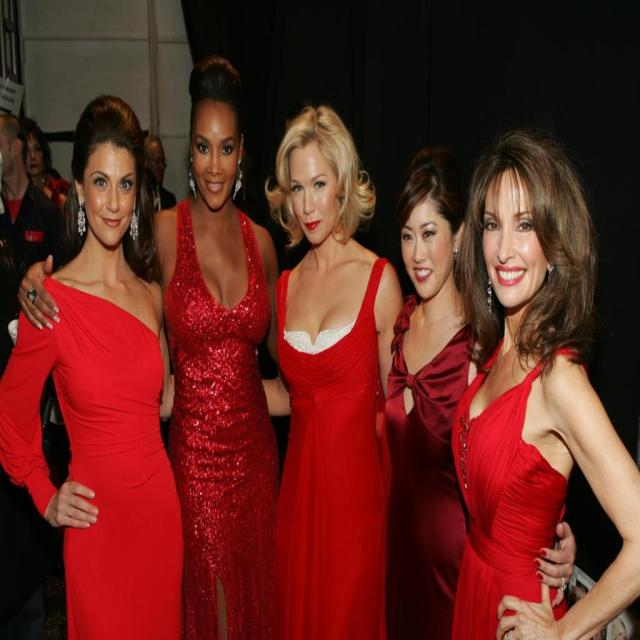Face: (482, 167, 554, 304), (274, 131, 350, 245), (75, 136, 136, 253), (182, 100, 249, 206), (403, 203, 458, 296)
